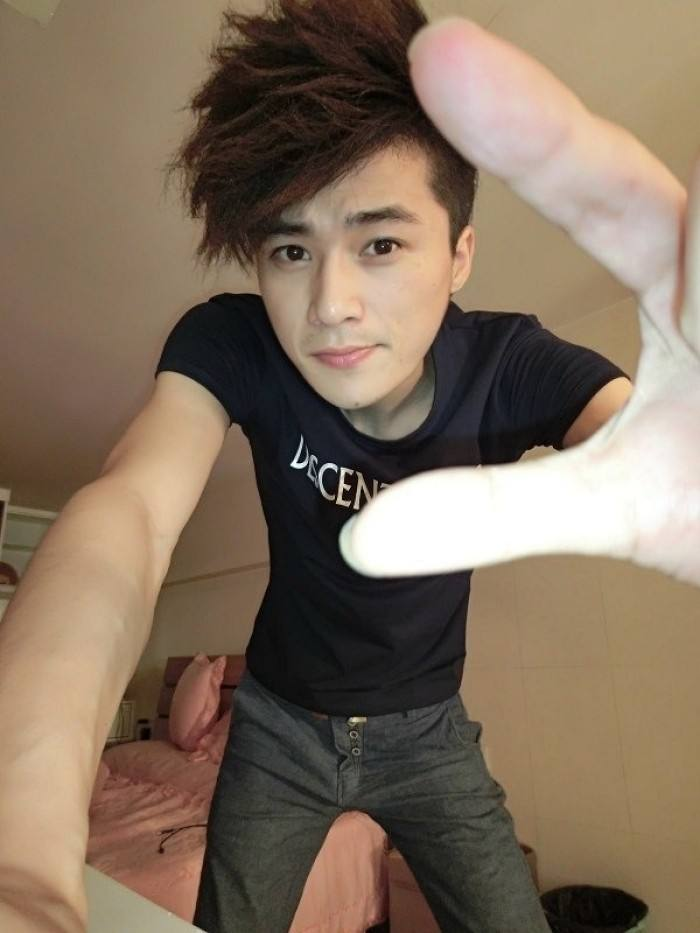person: (146, 15, 700, 671)
